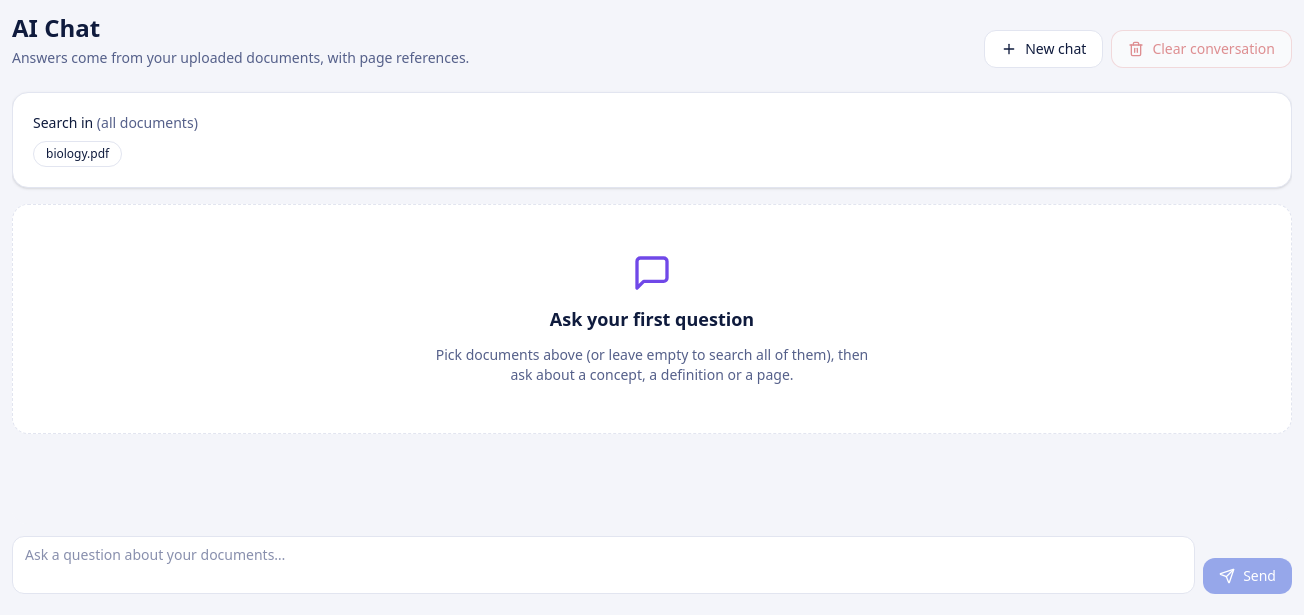
Test case: displays the question, a loading indicator, then the answer with sources
Later steps or results of the test are not shown.
Type "What is photosynthesis?" into the text box named "Your question" at {"x": 604, "y": 565}, box top-left (12, 536), bottom-right (1195, 594)
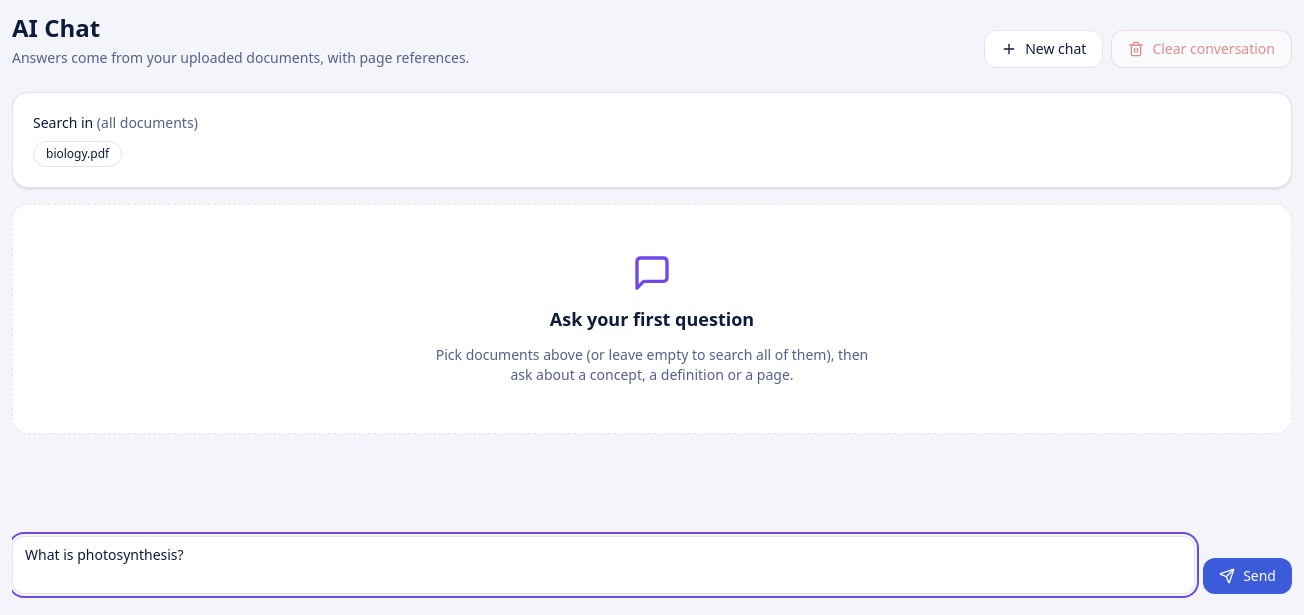
Click the button "Send" at {"x": 1248, "y": 576}, box top-left (1203, 558), bottom-right (1292, 594)
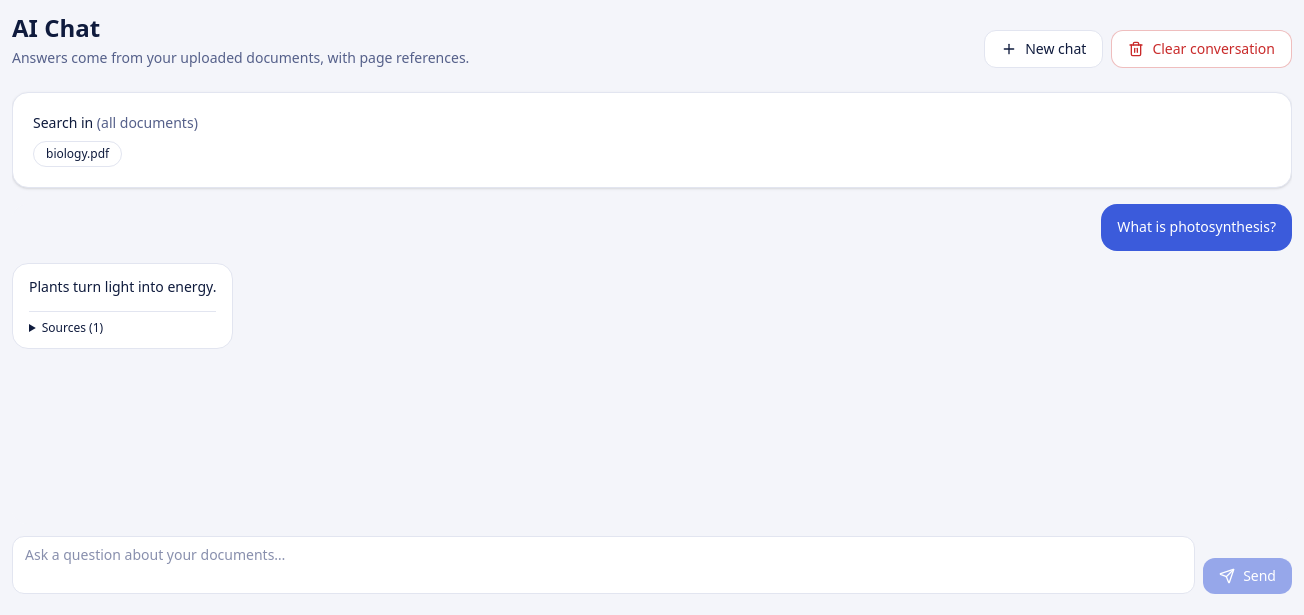
Now the text "What is photosynthesis?" is shown, box top-left (1117, 216), bottom-right (1276, 239)
Now the text "Plants turn light into energy." is shown, box top-left (29, 276), bottom-right (216, 299)
